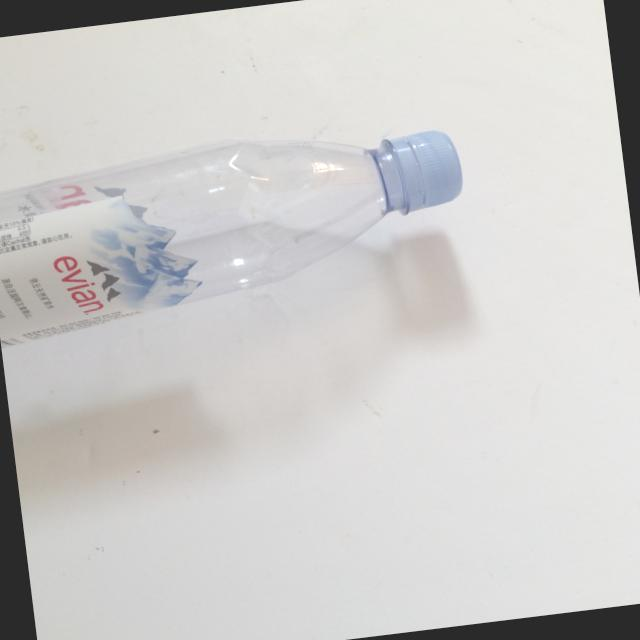Plastic: (0, 84, 509, 425)
